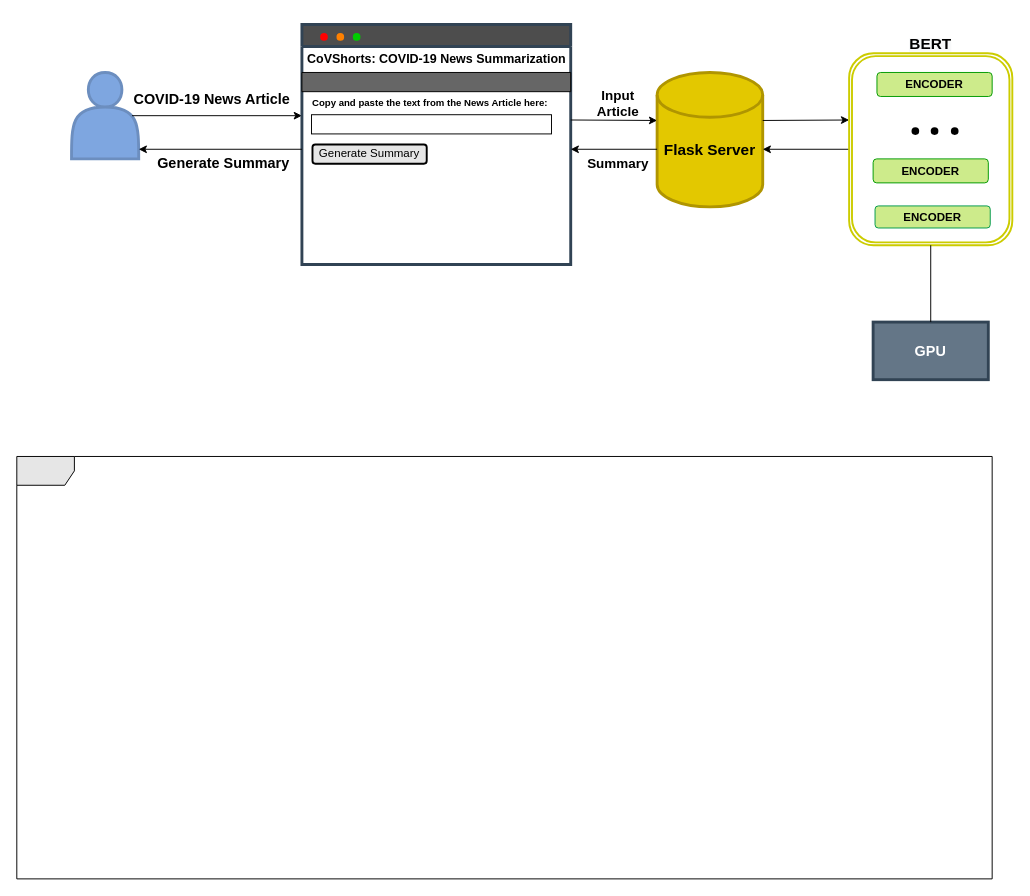
Some shapes in this 1030 by 896 pixel diagram are drawn without their labels. The shapes that lost their labels are listed below. From the top down, each one's box as (x1, y1, x2, y2) in pixels, then its label:
(301, 72, 571, 92): Input Article Summary
(70, 71, 140, 160): USER
(16, 456, 992, 879): CoVShorts Flow
